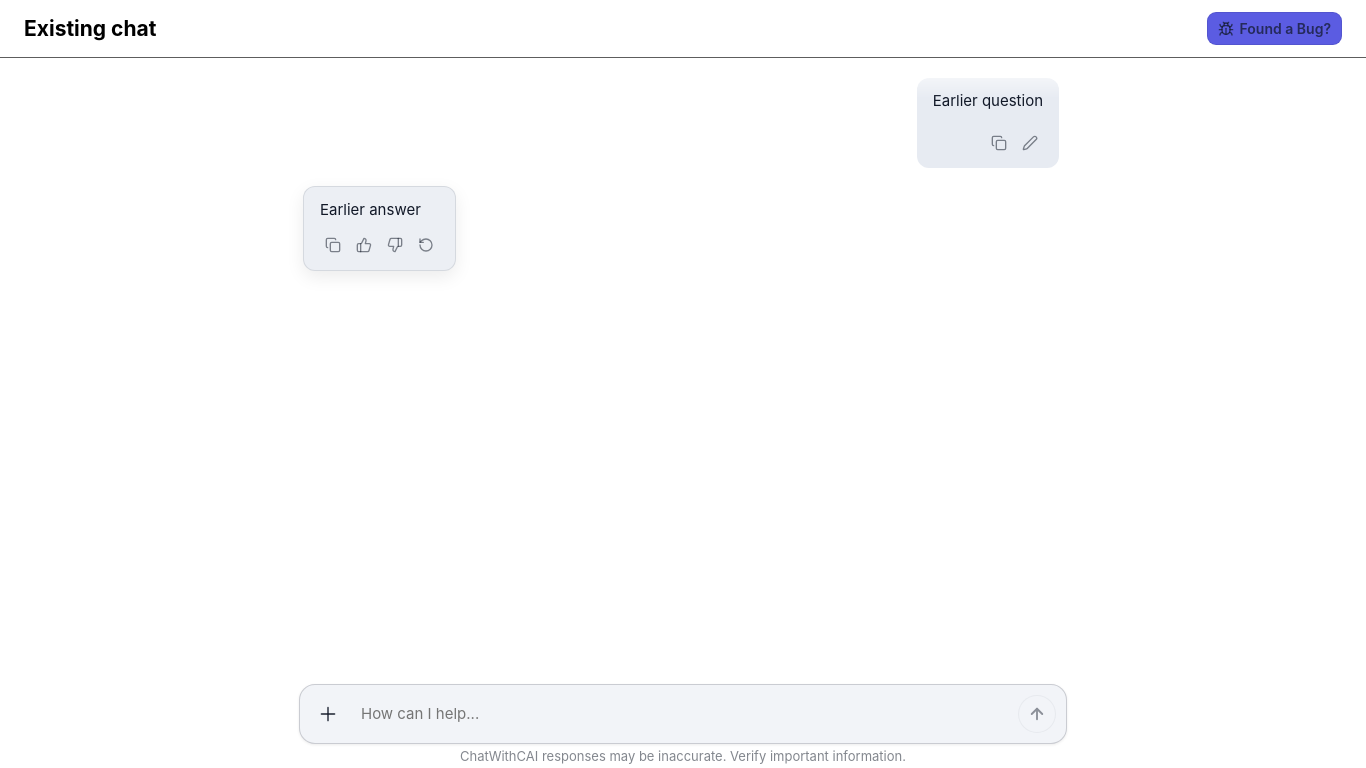
Test case: chat message sending › sends from a non-secure Vite LAN origin and renders the streamed reply
Expected: the text "Earlier answer" is shown, left=320, top=200, right=421, bottom=218
In the text box: (678, 714) left=355, top=704, right=1000, bottom=724, type "Hello from Vite"
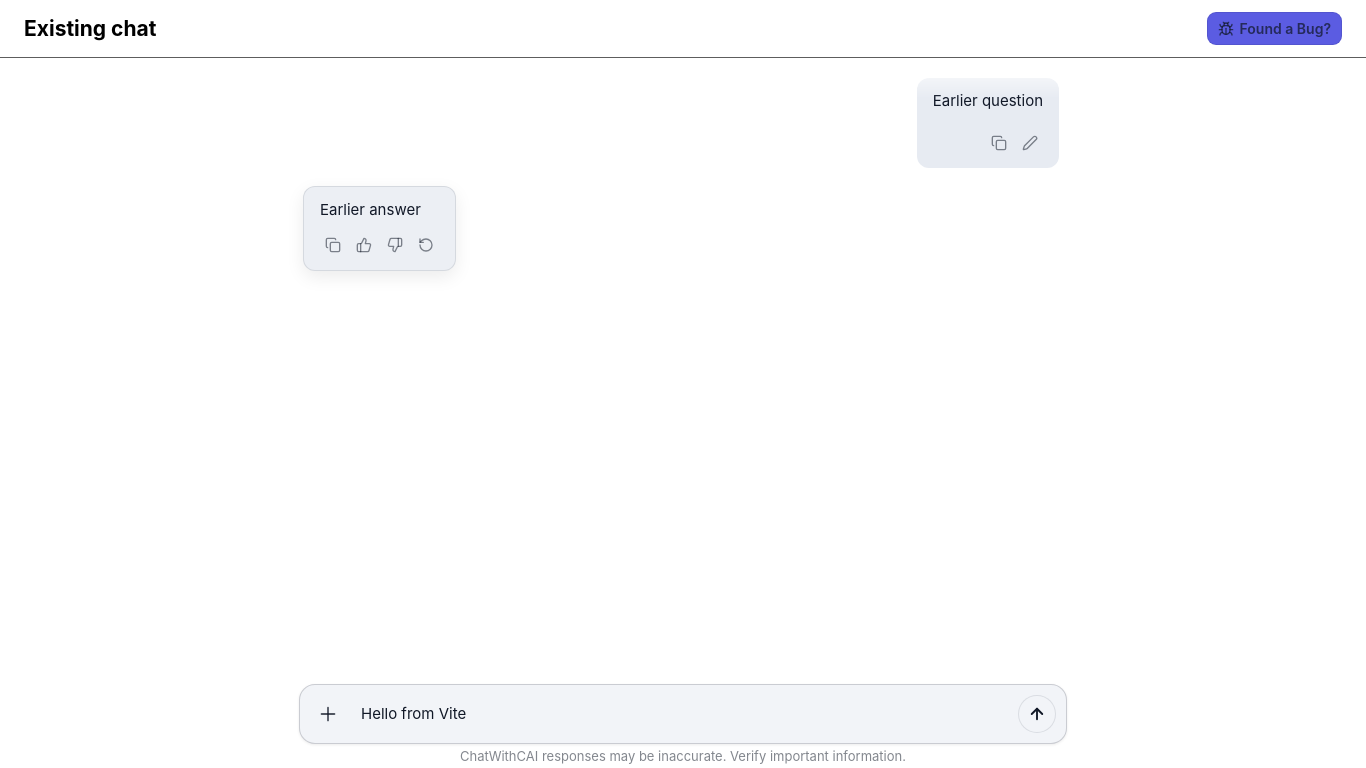
Click the button named "Send message": (1037, 714) left=1018, top=695, right=1056, bottom=733
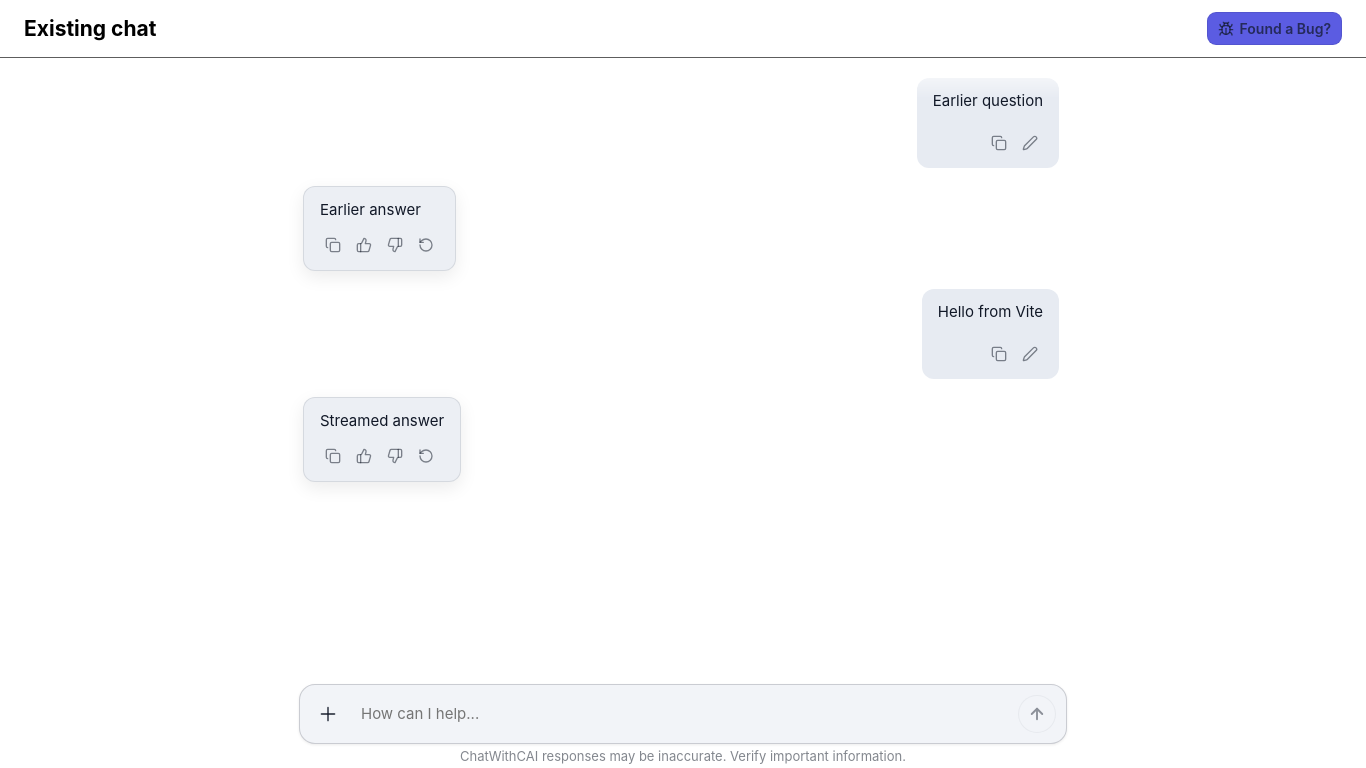
Result: the text "Hello from Vite" is shown at left=938, top=301, right=1043, bottom=324
Result: the text "Streamed answer" is shown at left=320, top=410, right=444, bottom=432
